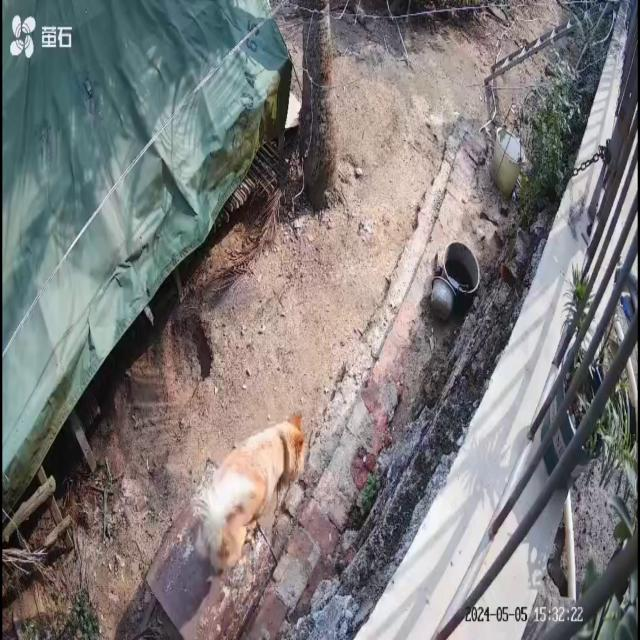dog: (194, 413, 306, 576)
